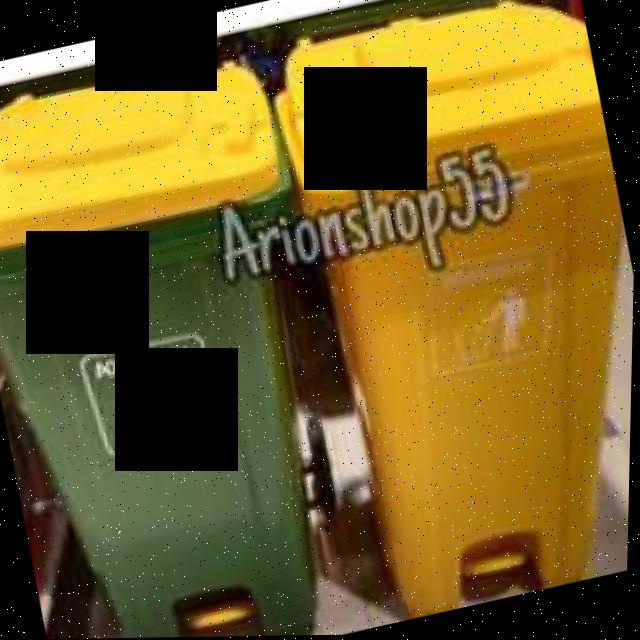bin: (246, 0, 640, 630), (0, 42, 381, 640)
